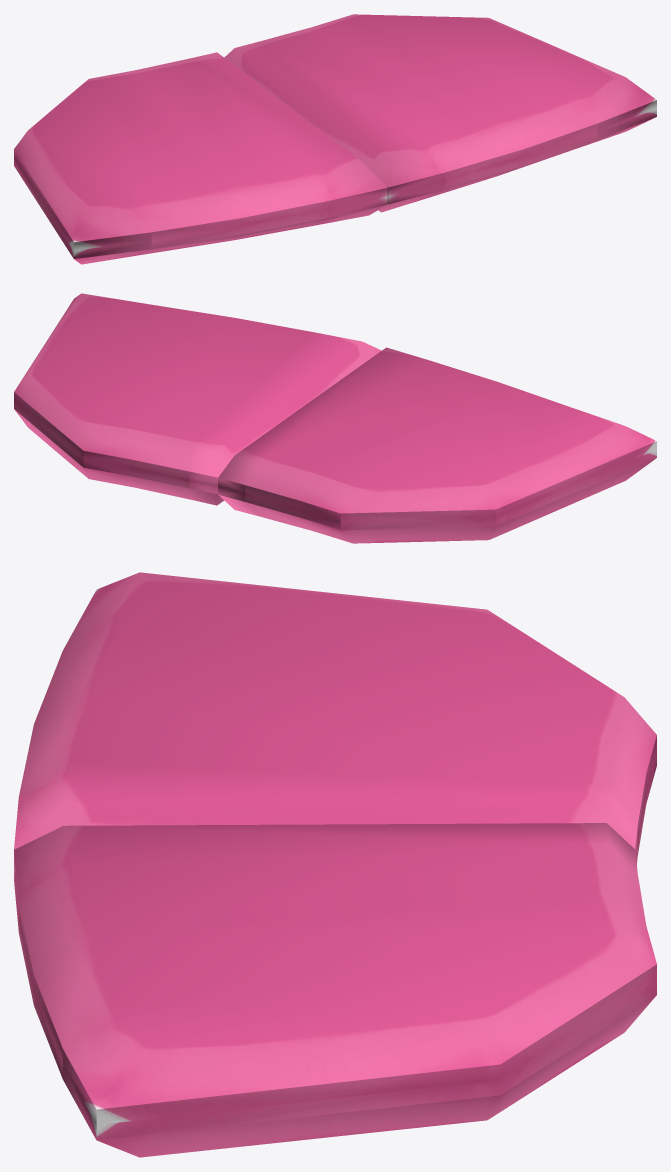
Rendered from MDL_12SlotRIng_Tile_A.fbx.
3 views of the same model, one above another, from view 1: azimuth 30°, elevation 25°; view 2: azimuth 150°, elevation 25°; view 3: azimuth 270°, elevation 25° (orthographic). The views are drawn at different scales.
Visible parts, largest first — view 1: Right_Wing_Tile, Left_Wing_Tile; view 2: Right_Wing_Tile, Left_Wing_Tile; view 3: Left_Wing_Tile, Right_Wing_Tile.
Part boxes in pixels (x1=…): Right_Wing_Tile: x1=14, y1=52, x2=387, y2=264; Left_Wing_Tile: x1=224, y1=14, x2=656, y2=212; Right_Wing_Tile: x1=218, y1=347, x2=656, y2=543; Left_Wing_Tile: x1=14, y1=293, x2=381, y2=505; Left_Wing_Tile: x1=14, y1=823, x2=656, y2=1157; Right_Wing_Tile: x1=14, y1=572, x2=656, y2=864.
Size of the model in its own units: 261 by 23.34 by 137.
